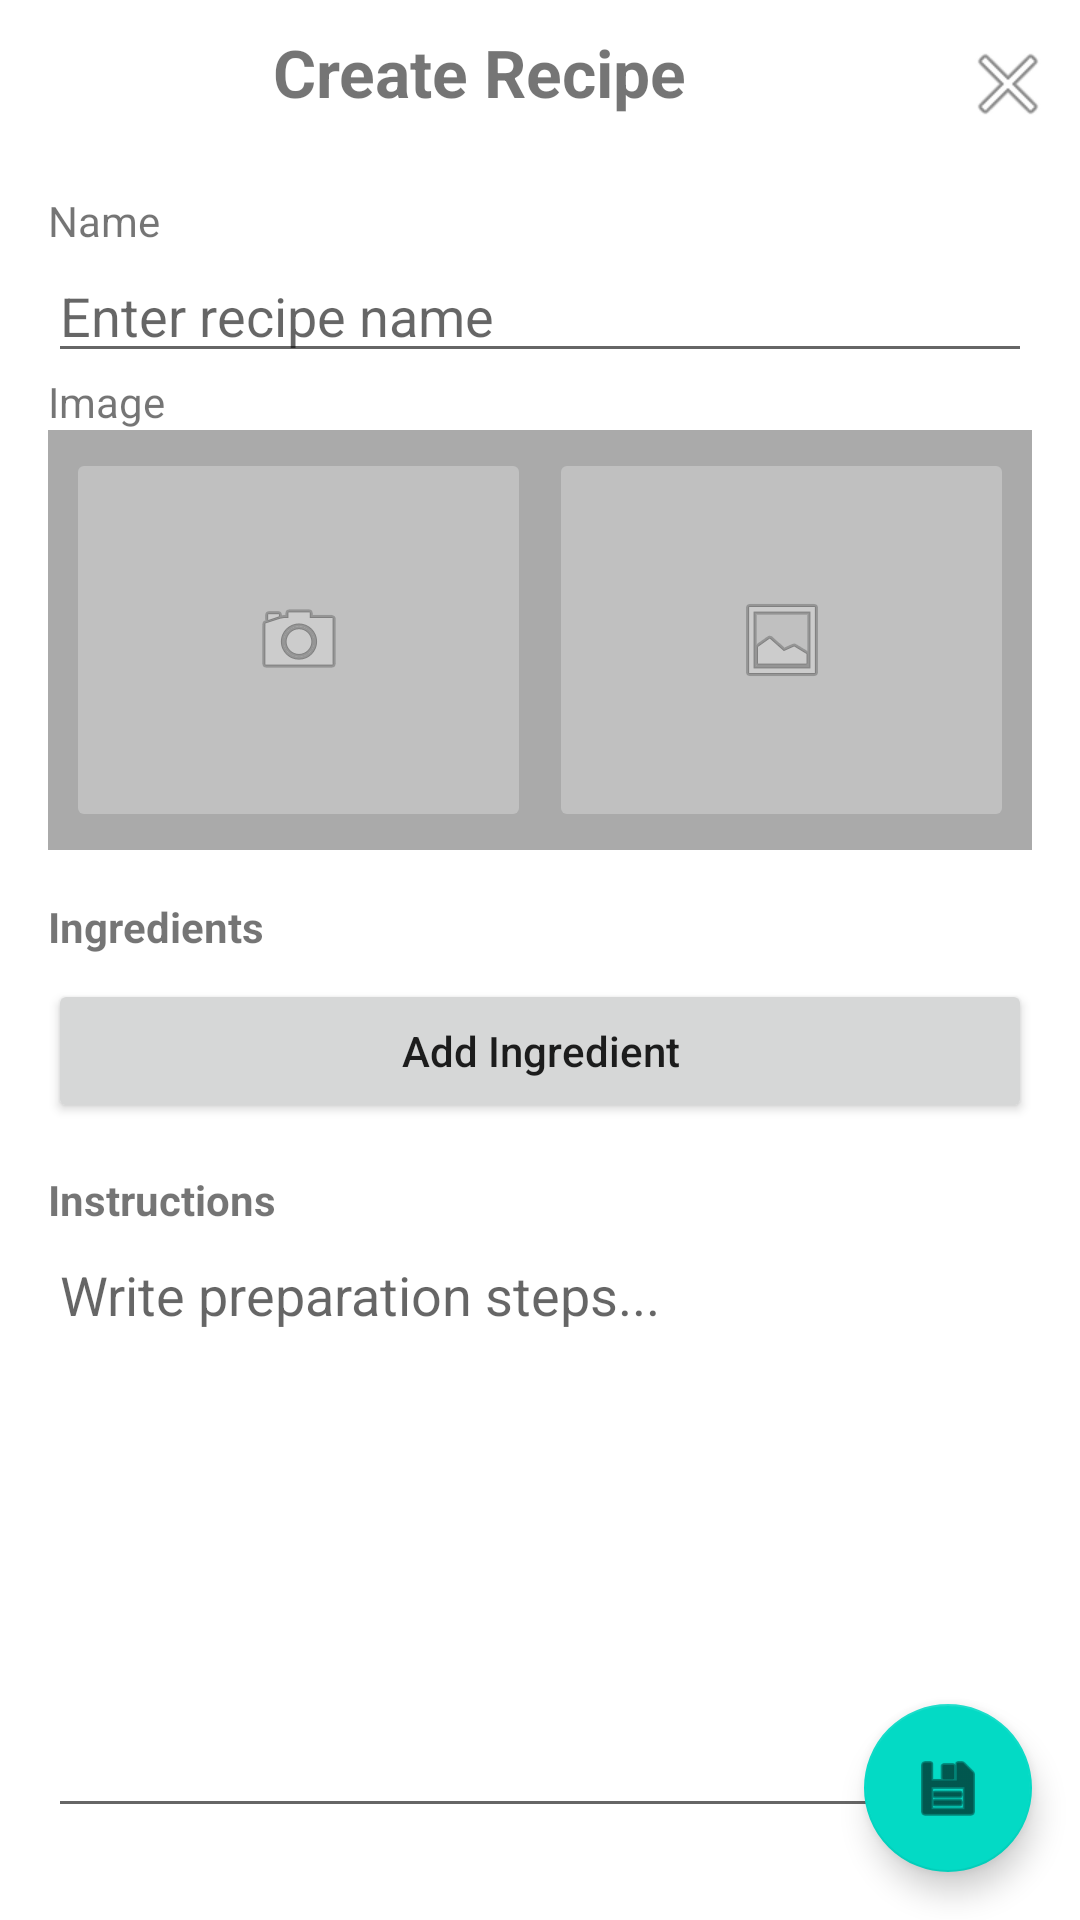

Icons on this 1080px x 1920px Android screen, each with the point to tap as point (x, y):
camera: point (299, 638)
Close: point (1008, 84)
gallery: point (782, 640)
Save: point (948, 1788)
